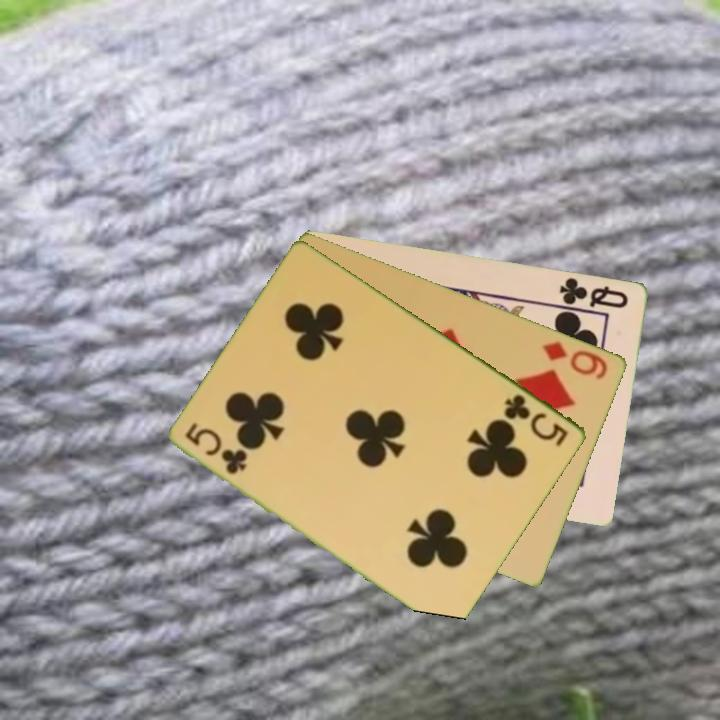5c: (501, 390, 572, 449), (182, 419, 251, 478)
6d: (539, 337, 611, 382)
Qc: (556, 273, 632, 311)
